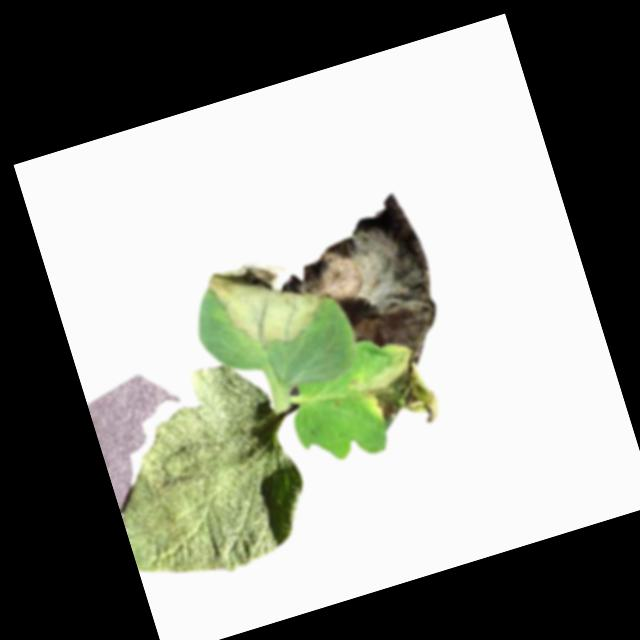Late_blight: (262, 187, 457, 398), (201, 240, 331, 360), (364, 349, 442, 437)
